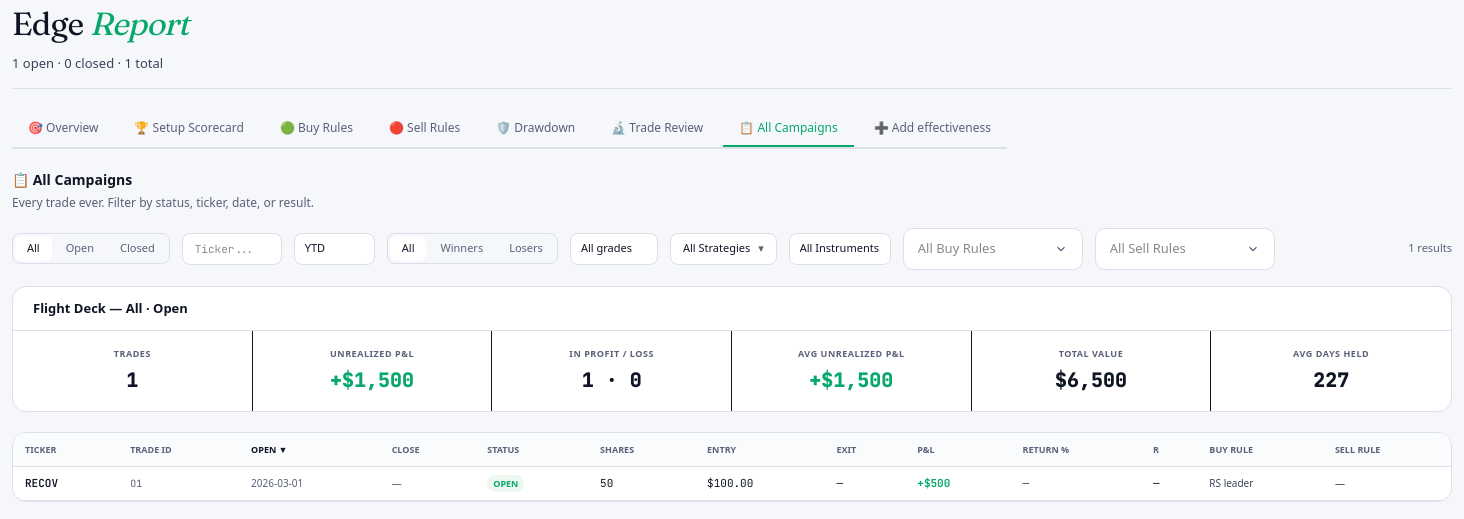
it: Analytics — All Campaigns Flight Deck › winners filter classifies open trade by overall_pl, not realized_pl
The width and height of the screenshot is (1464, 519).
Expected: the text "RECOV" is shown, [13, 466, 118, 500]
Step 1. Click the button "winners" → (462, 249), box [428, 236, 495, 261]
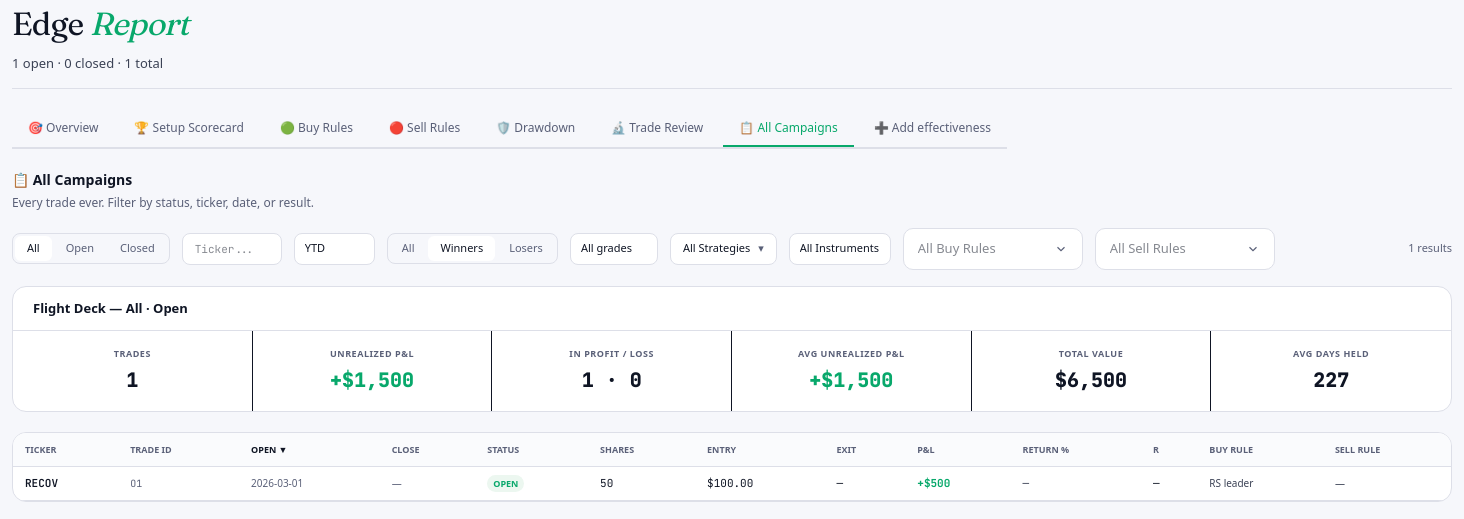
Expected: the text "RECOV" is shown, [13, 466, 118, 500]
Step 2. Click the button "losers" → (526, 249), box [497, 236, 555, 261]
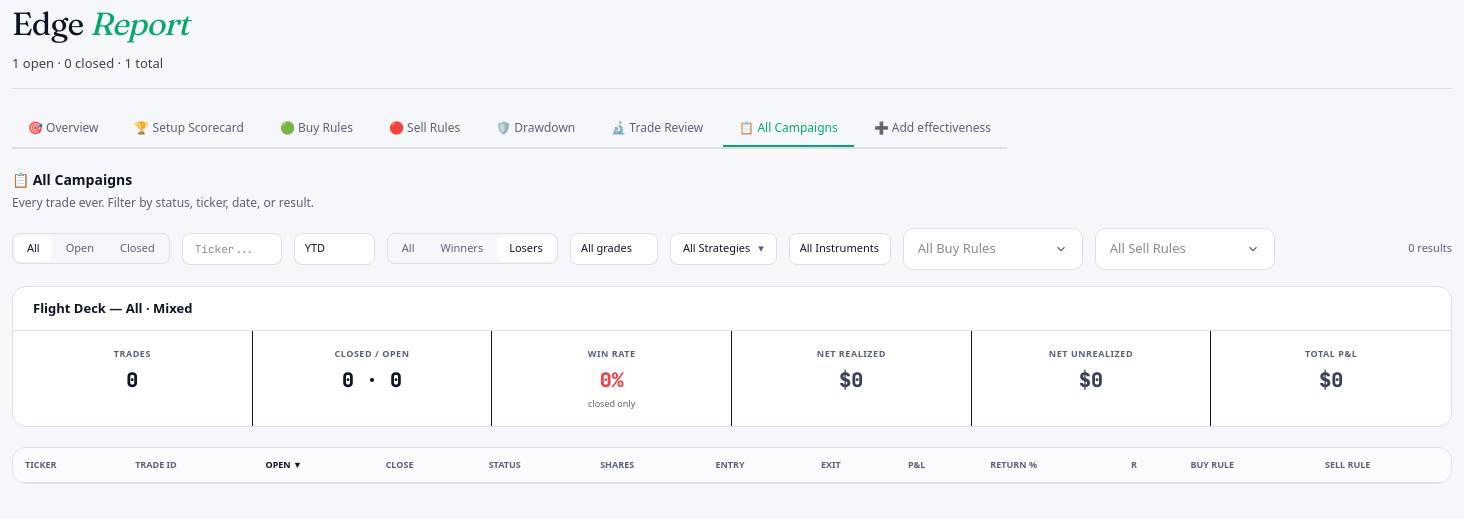
Result: the text "RECOV" is gone
